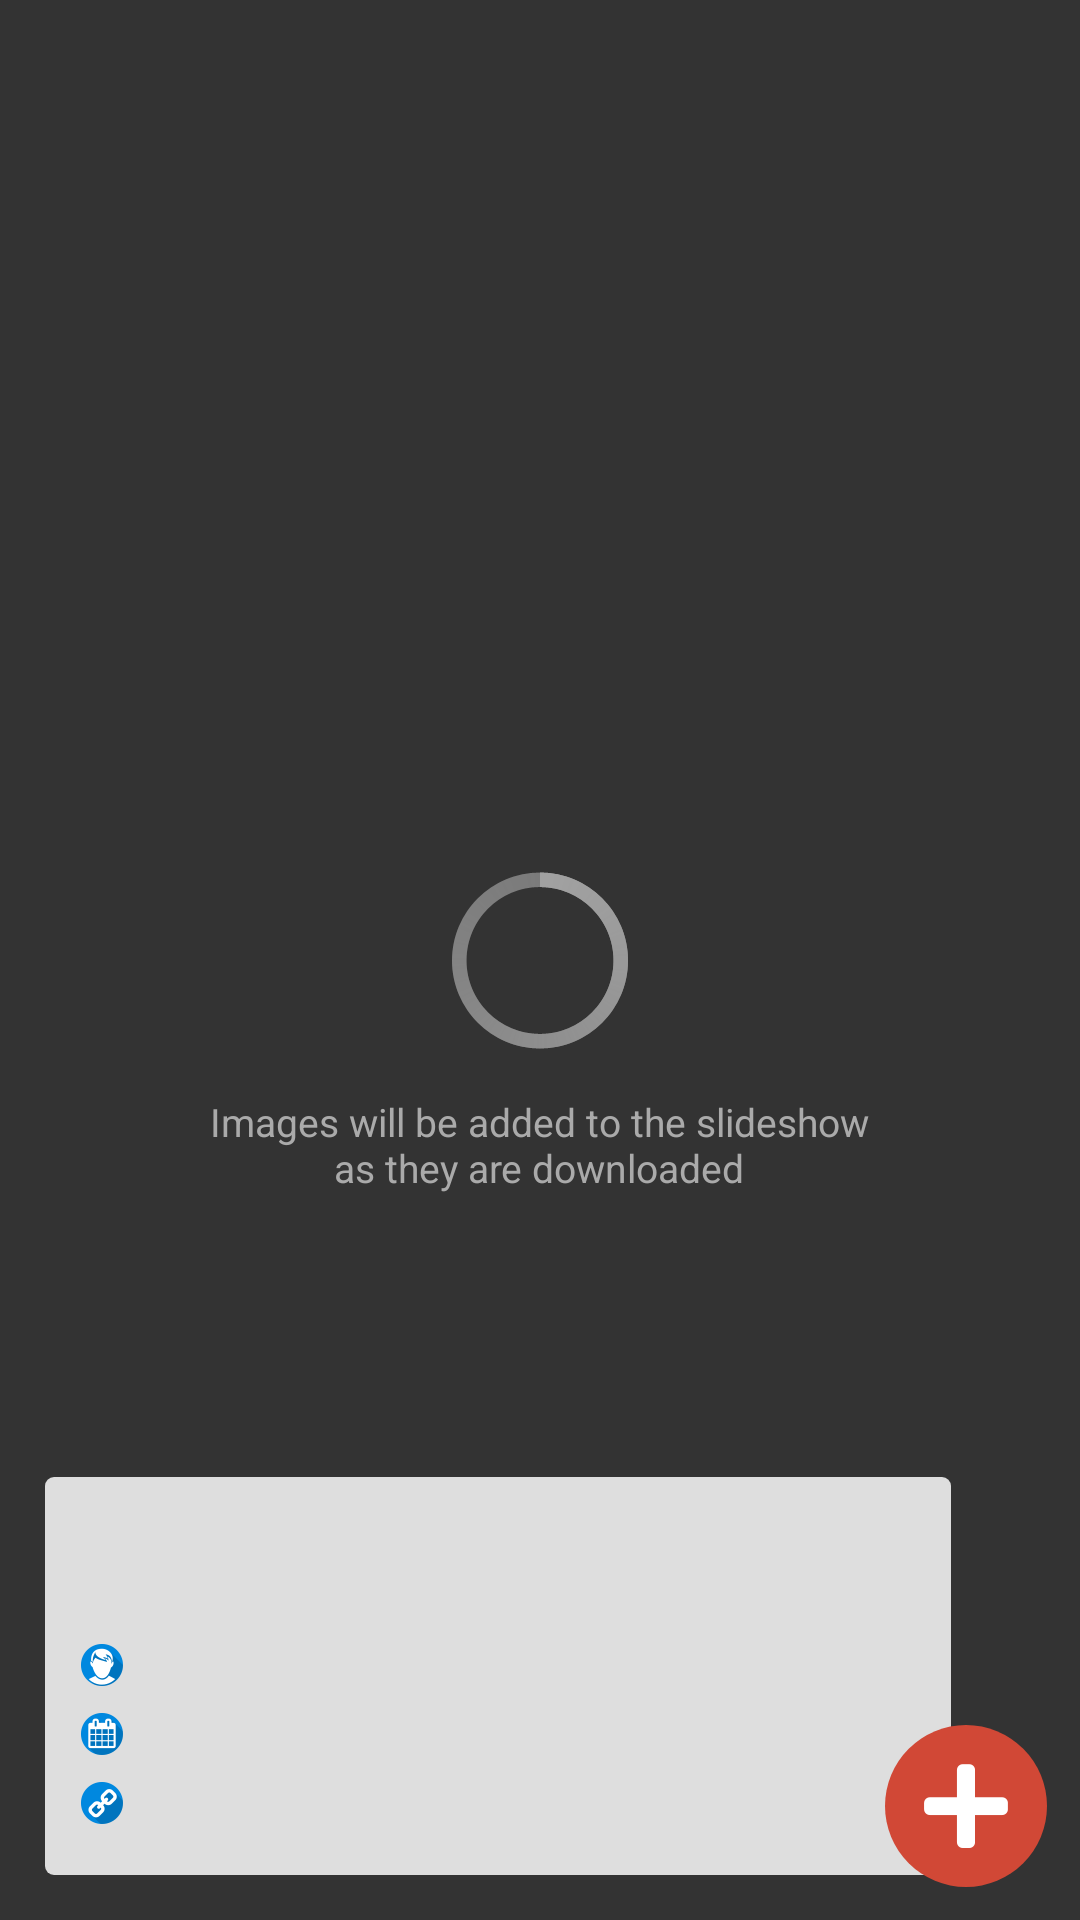

Locate icon controls on the screen. Image size 1080x1920, boxes as (x1, y1, x2, y2).
date: (81, 1713, 123, 1755)
link: (81, 1782, 123, 1824)
plus: (924, 1764, 1008, 1848)
user: (81, 1644, 123, 1686)
